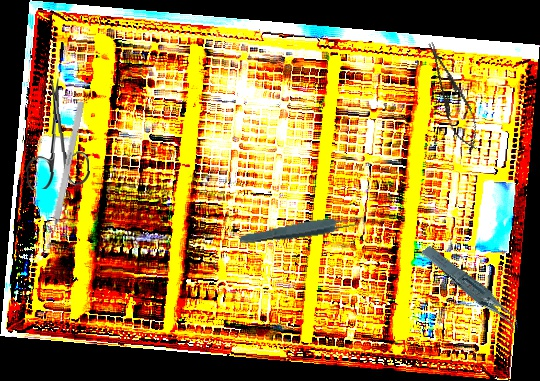Hook Surgical: (47, 101, 85, 246)
Iris Scissors: (21, 76, 91, 191)
Needle Holder: (418, 37, 487, 155)
Tissue Forceps: (420, 230, 522, 350), (238, 212, 365, 249)
